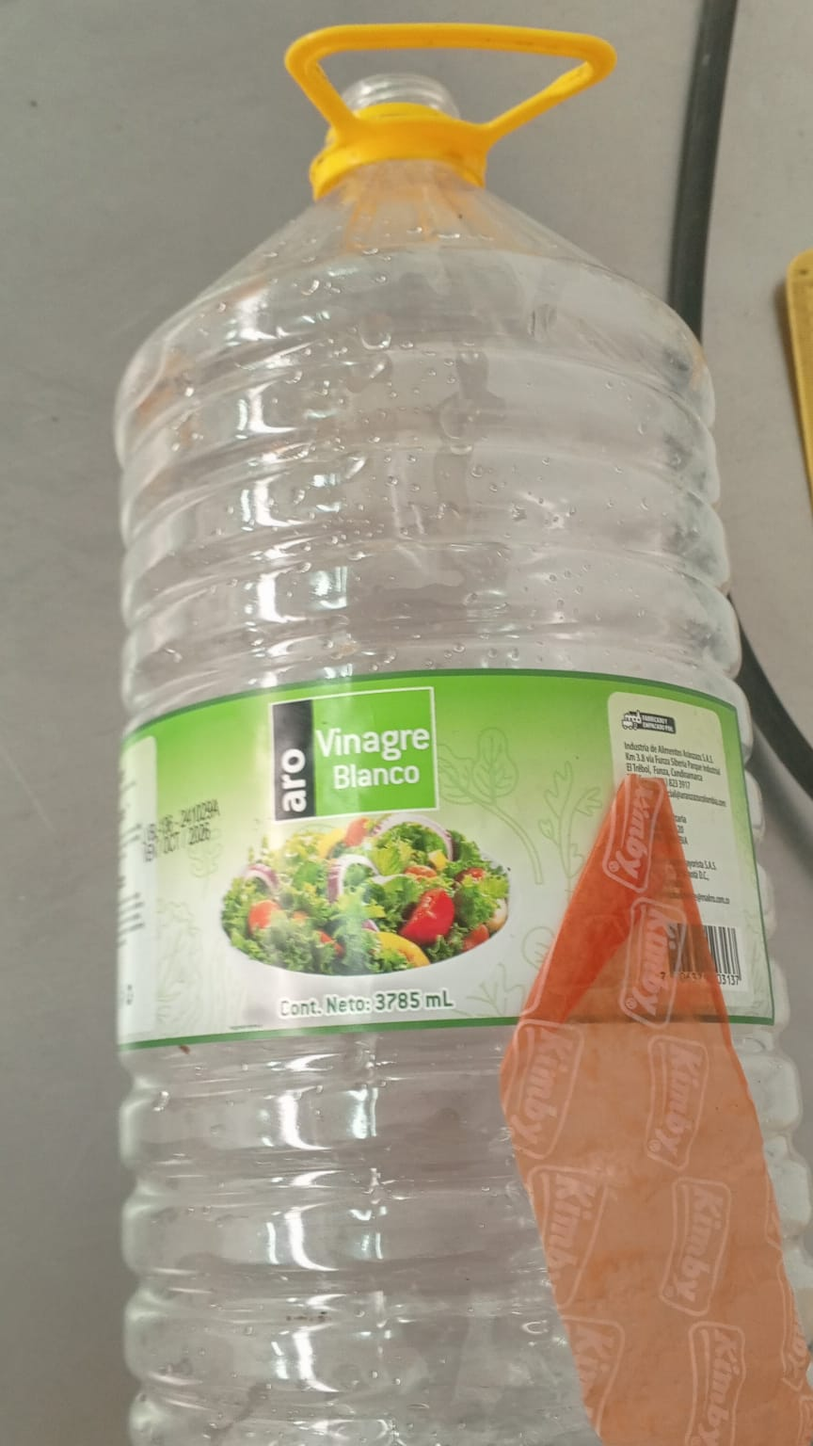Plastico: (113, 18, 813, 1446)
